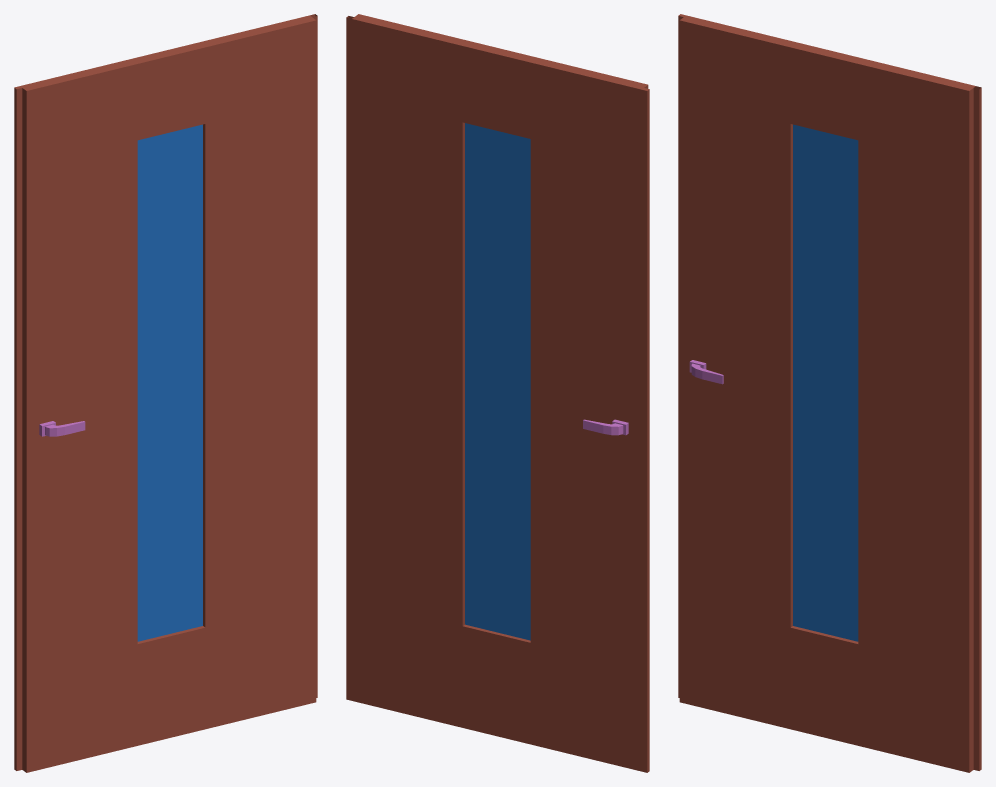
The model's file is Door1.obj.
3 views of the same model, side by side, from view 1: azimuth 30°, elevation 25°; view 2: azimuth 150°, elevation 25°; view 3: azimuth 330°, elevation 25° (orthographic).
Visible parts, largest first — view 1: door_wing.013_Cube.102; view 2: door_wing.013_Cube.102; view 3: door_wing.013_Cube.102.
Part boxes in pixels (x1,y1,x2,y2): door_wing.013_Cube.102: [14, 14, 317, 772]; door_wing.013_Cube.102: [346, 14, 649, 772]; door_wing.013_Cube.102: [678, 14, 981, 772].
Size of the model in its own units: 4.58 by 9.91 by 0.5894.
